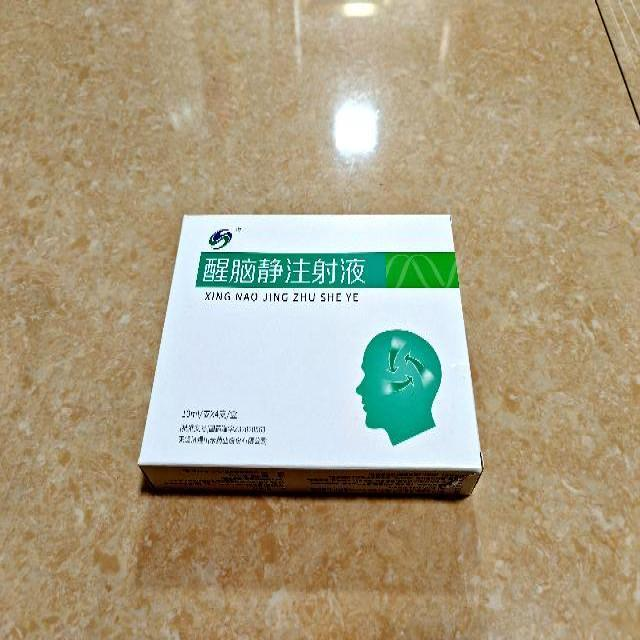box: (138, 214, 482, 496)
